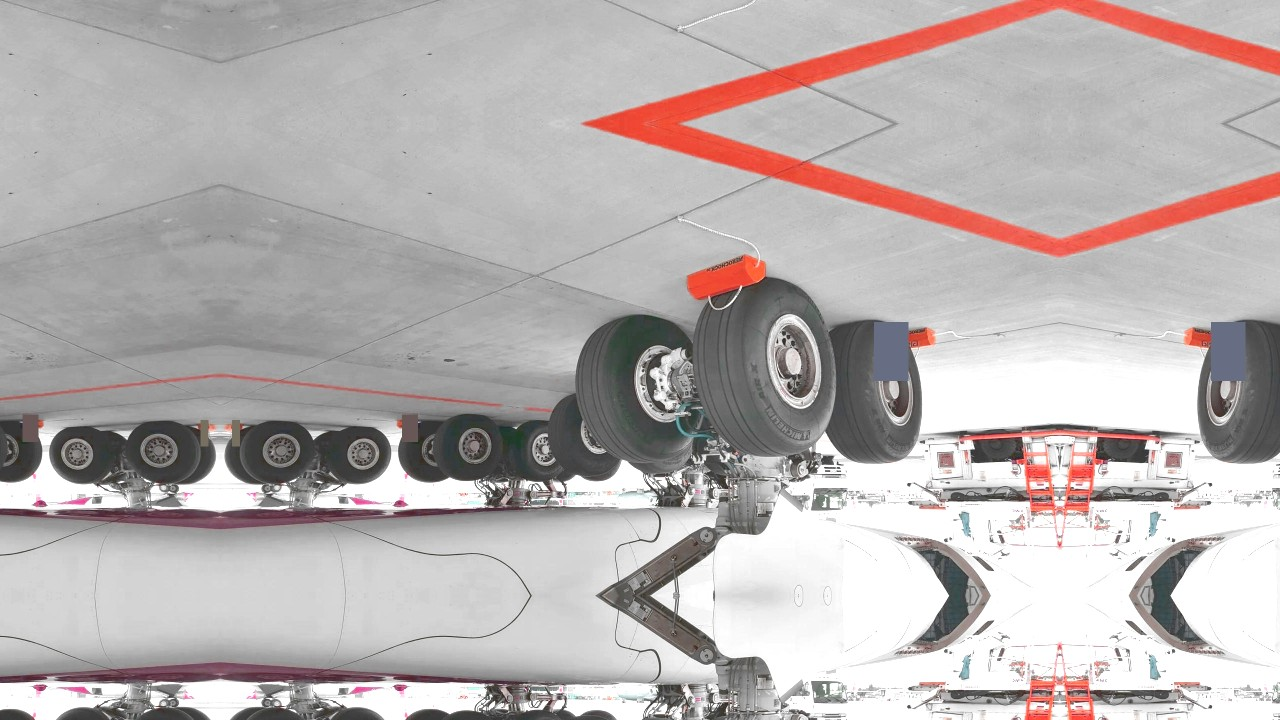chock: (685, 256, 770, 301), (870, 327, 939, 352), (1181, 327, 1250, 352), (21, 417, 48, 428), (392, 417, 419, 428), (195, 422, 216, 434), (224, 422, 245, 434)
wheel: (690, 282, 837, 460), (577, 315, 702, 468), (820, 322, 924, 465), (1196, 322, 1280, 465), (548, 396, 623, 482), (124, 422, 203, 485), (237, 422, 316, 485), (435, 414, 503, 482), (48, 426, 117, 485), (323, 426, 392, 485), (396, 420, 450, 484), (509, 420, 563, 482), (0, 420, 44, 484), (172, 428, 216, 486), (224, 428, 268, 486), (488, 426, 523, 483), (627, 447, 690, 476), (977, 429, 1016, 460), (1104, 429, 1143, 460), (576, 460, 621, 483), (124, 707, 203, 720), (237, 707, 316, 720), (48, 706, 117, 720), (323, 706, 392, 720), (548, 710, 623, 720), (396, 707, 450, 720), (435, 710, 503, 720), (172, 706, 216, 720), (224, 706, 268, 720), (509, 709, 563, 720), (0, 707, 44, 720), (576, 709, 621, 720), (488, 709, 523, 720), (627, 716, 690, 720)
